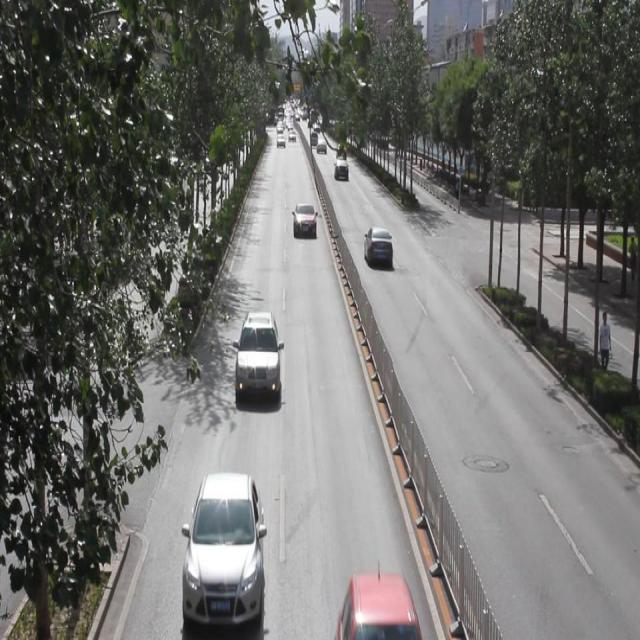car: (184, 471, 265, 621), (336, 571, 422, 640), (236, 311, 281, 401), (362, 226, 392, 268), (293, 203, 315, 239), (333, 158, 349, 179), (334, 140, 347, 160), (316, 136, 328, 153), (276, 133, 286, 148), (287, 129, 297, 142)
truck: (309, 129, 318, 147)
